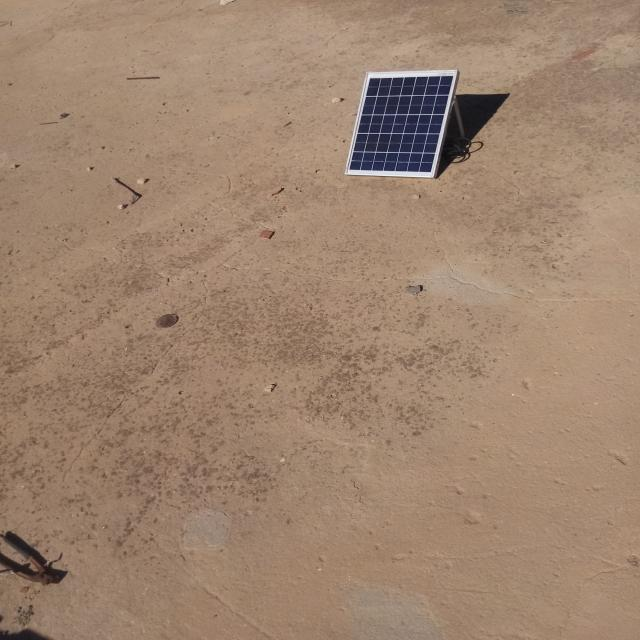no faulty: (345, 70, 457, 177)
